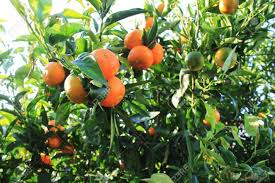orange: (91, 74, 126, 111), (85, 45, 121, 79), (64, 69, 92, 104), (126, 46, 154, 71), (122, 26, 147, 49)
